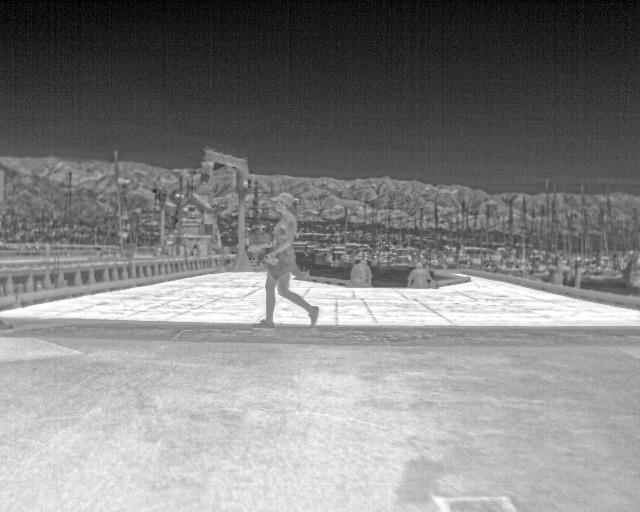empty: (254, 193, 317, 326), (345, 253, 373, 288), (404, 261, 434, 290)
